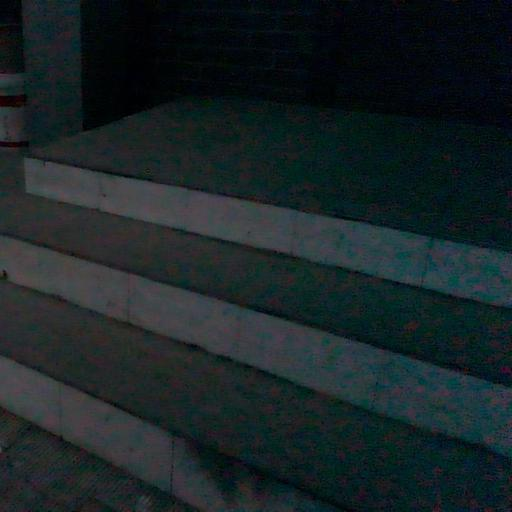stairs: (0, 99, 511, 511)
